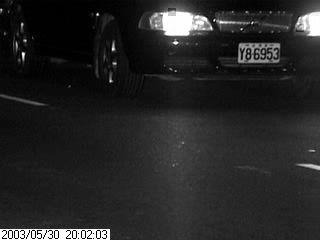plate: (236, 41, 281, 65)
